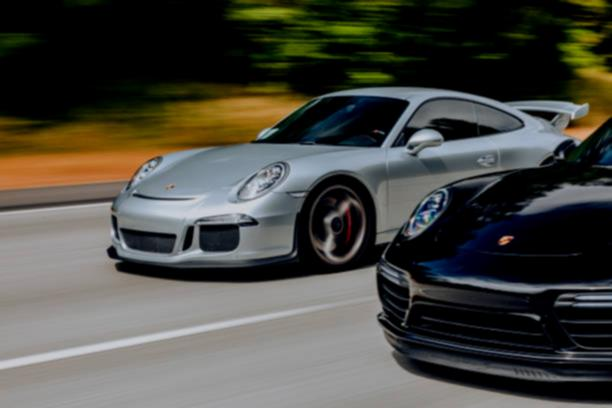porsche: (491, 230, 518, 251), (159, 180, 184, 194)
